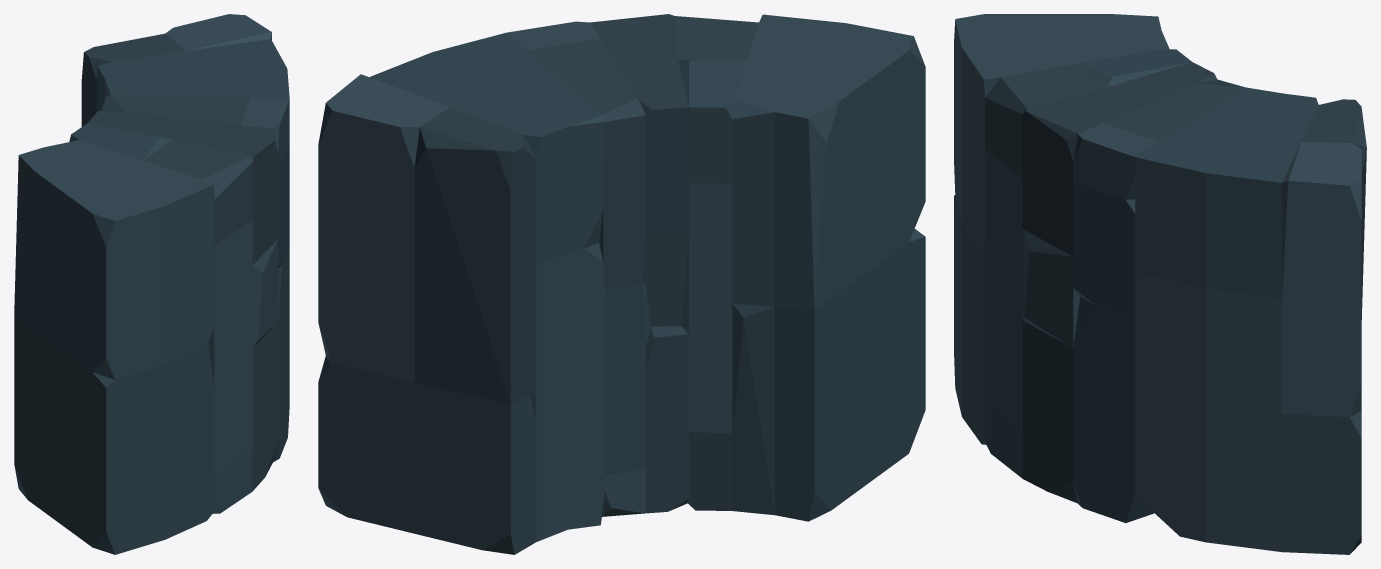
The model's file is level_element_round_corner_4x4x4_conv.fbx.
The picture shows the model from 3 angles, left to right: view 1: azimuth 30°, elevation 25°; view 2: azimuth 150°, elevation 25°; view 3: azimuth 270°, elevation 25°; orthographic projection. The views are drawn at different scales.
Visible parts, largest first — view 1: level_element_round_corner_4x4x4_conv; view 2: level_element_round_corner_4x4x4_conv; view 3: level_element_round_corner_4x4x4_conv.
Boxes of the visible parts, x1,y1,x2,y2 form: level_element_round_corner_4x4x4_conv: [14, 14, 289, 554]; level_element_round_corner_4x4x4_conv: [318, 14, 925, 554]; level_element_round_corner_4x4x4_conv: [954, 14, 1366, 554].
Bounding box in the file's own units: 404 × 409 × 405.
